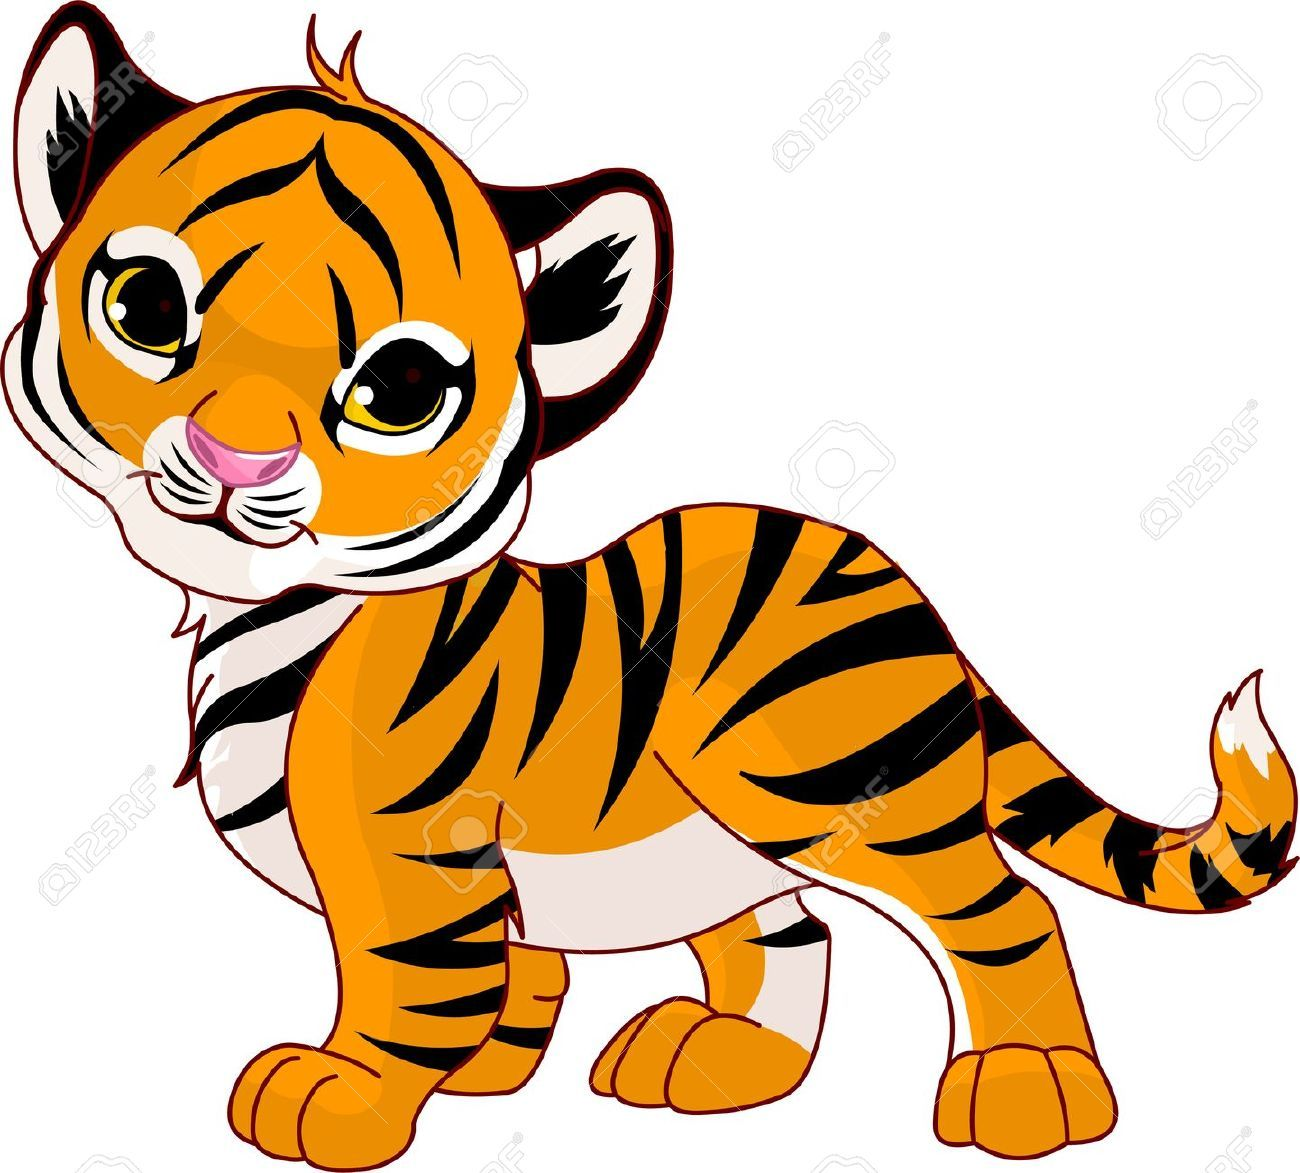Tigrew: (8, 12, 1251, 1173)
